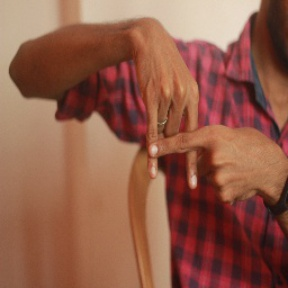H: (122, 79, 227, 192)
